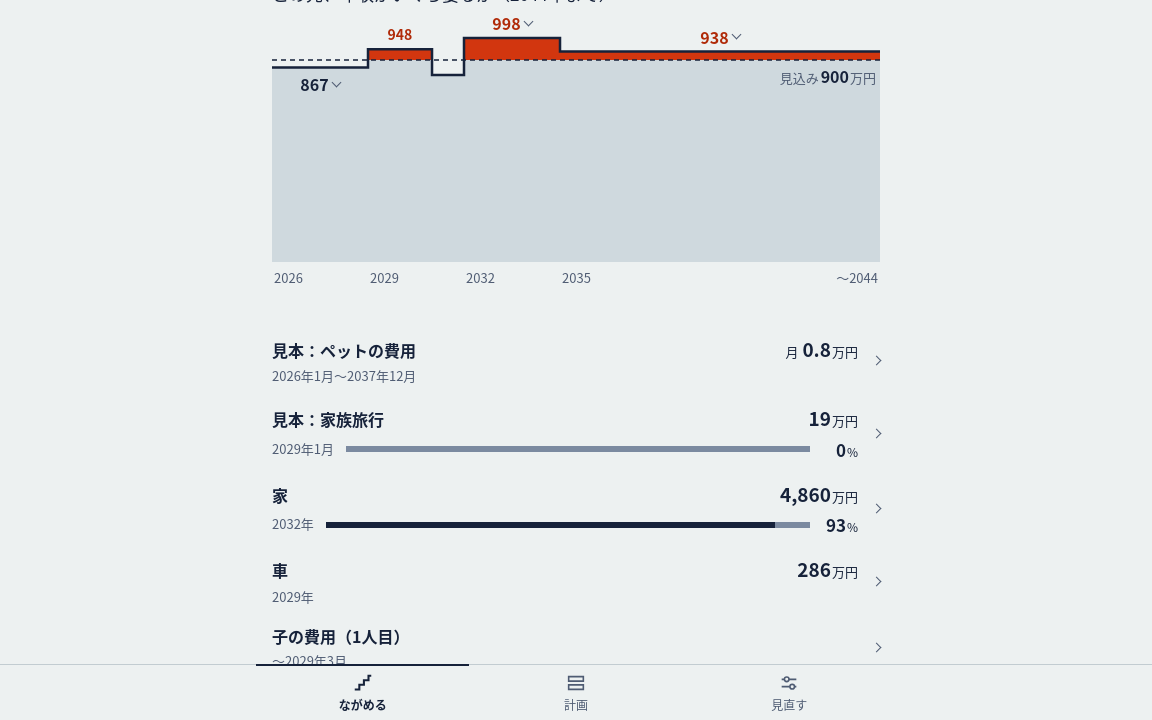
Scenario: 計画（T6） › ながめるの目標の一覧から来たら、そのカードが開いている
(page scrolled)
Click the link "見本：ペットの費用 月 0.8万円 2026年1月〜2037年12月".
click(344, 350)  # box 272,326 -> 880,395
(page scrolled)
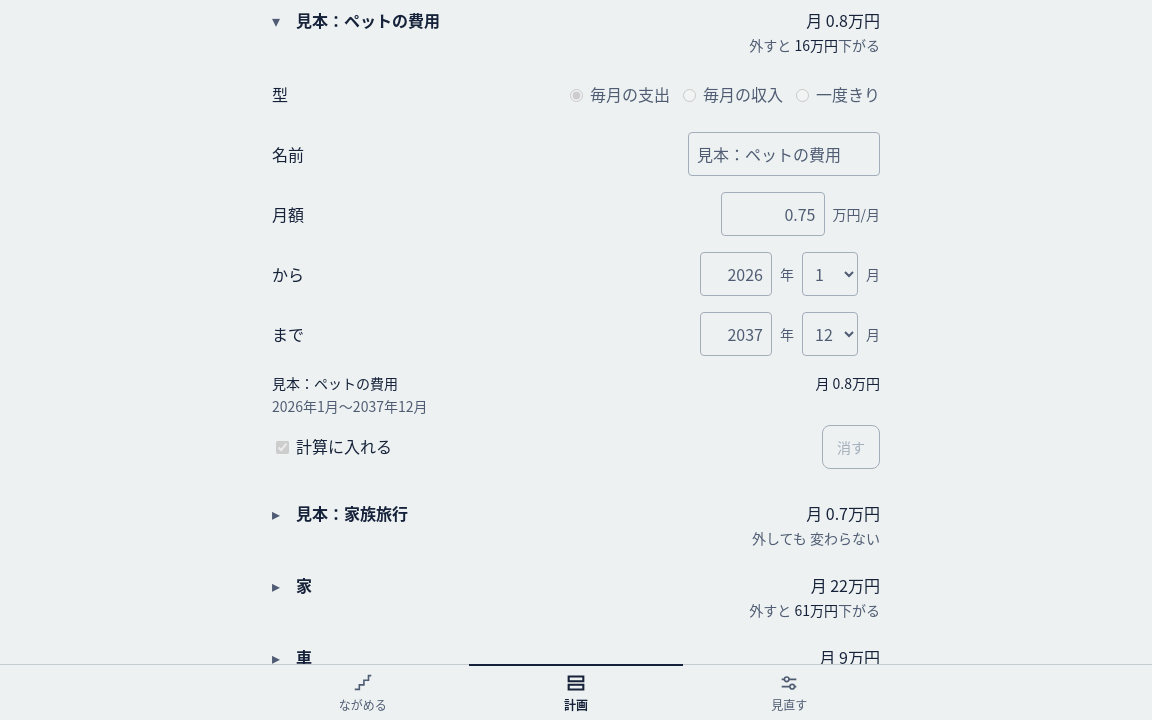
Check: the element that starts with "見本：ペットの費用" is shown, box 272,0 -> 880,485
